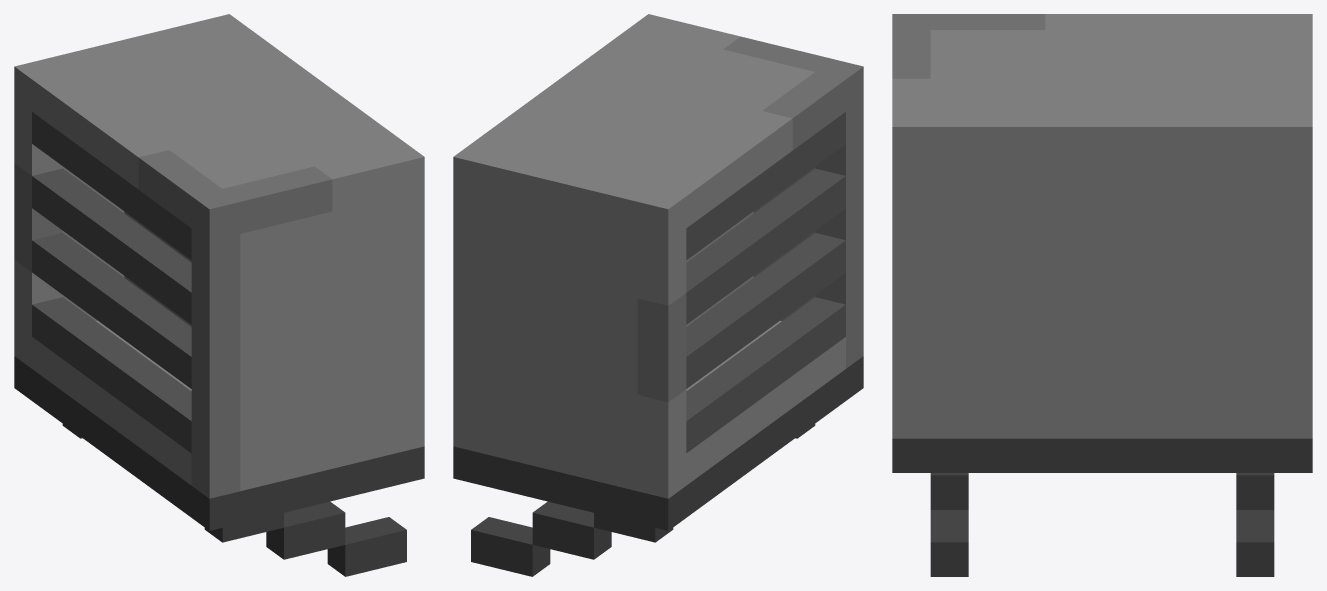
Rendered from condenserUnitTypeA.glb.
3 views of the same model, side by side, from view 1: azimuth 30°, elevation 25°; view 2: azimuth 150°, elevation 25°; view 3: azimuth 270°, elevation 25° (orthographic). The views are drawn at different scales.
Parts seen in each view (by area): view 1: ObjObject; view 2: ObjObject; view 3: ObjObject.
Part boxes in pixels (x1,y1,x2,y2): ObjObject: (14, 14, 424, 576); ObjObject: (453, 14, 863, 576); ObjObject: (892, 14, 1312, 576).
Size of the model in its own units: 0.7 by 1.3 by 1.1.
Materials: 1 (1 with a texture image).
